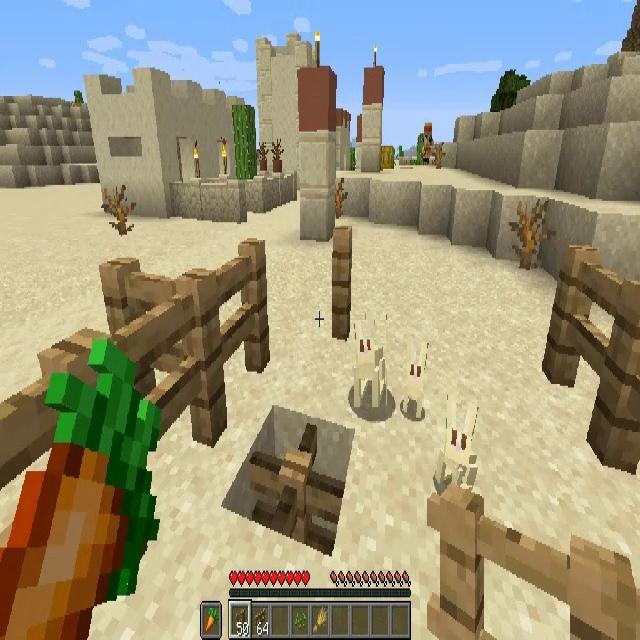rabbit: (444, 402, 480, 488), (354, 320, 386, 411), (400, 343, 426, 421)
